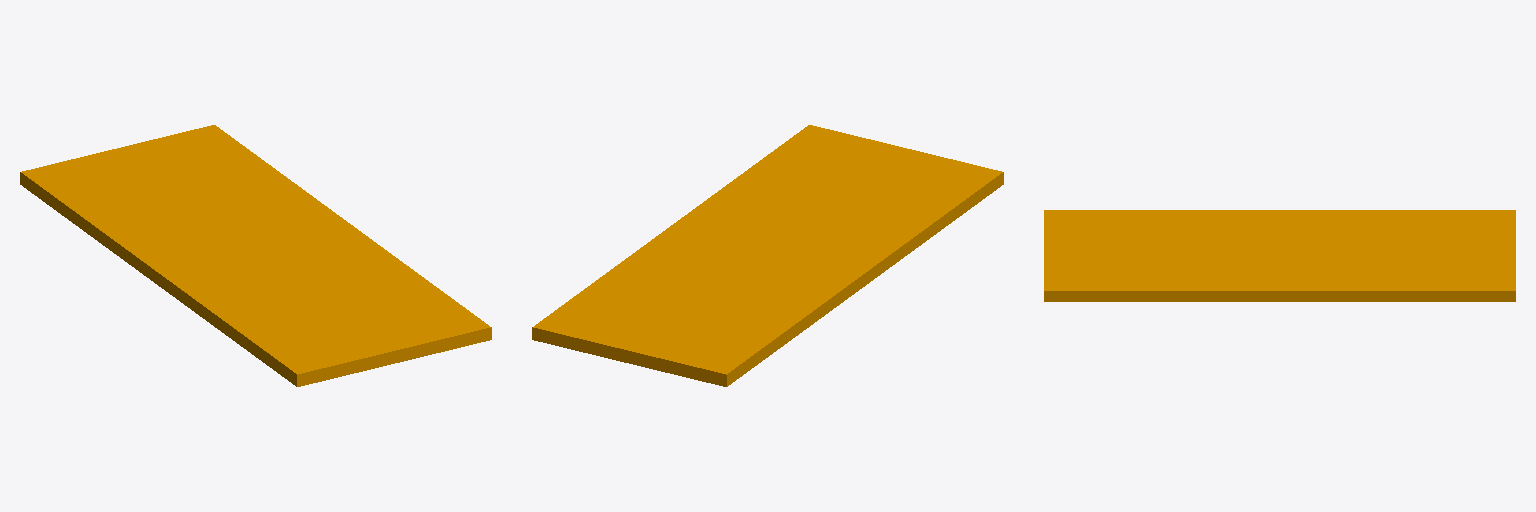
robot.urdf — esp32s3_devkitc:
<?xml version="1.0" encoding="utf-8"?>
<!-- ESP32-S3-DevKitC-1 v1.1 板体近似模型（box 近似，非真实外壳网格）。
     坐标约定：原点 = 板外形几何中心；X = 宽方向，Y = 长方向（+Y = 模组/天线端），
     Z 垂直板面，z=0 为板厚中面。尺寸来源见同目录 board.yaml 的 sources 段。
     外形 62.74 x 25.40 mm 来自乐鑫官方尺寸图 DXF 标注（已交叉验证）。 -->
<robot name="esp32s3_devkitc">
  <link name="base_link">
    <visual>
      <geometry>
        <!-- UNVERIFIED 占位：z=0.0016 是标称 PCB 厚度的绘图占位值，不是有来源的尺寸；
             board.yaml 的 thickness 为 null。实测后替换。x/y 为有来源的外形尺寸。 -->
        <box size="0.0254 0.06274 0.0016"/>
      </geometry>
      <origin xyz="0 0 0" rpy="0 0 0"/>
    </visual>
  </link>

  <!-- 三个挂载点为跨仓约定命名（PPM 导阈值按名字找），不改名不加前缀。
       位置是模型库的设计建议（约定），不是板子实测特征：
       camera = 长边模组端中心，sensor = 长边 USB 端中心，bracket = 板中心。
       z=0（板厚中面约定）；rpy 中项为俯仰角槽位，当前 0 = 水平朝前占位，
       正前方基准角由几何→阈值映射层定义（本单不做）。 -->
  <link name="mount_camera"/>
  <link name="mount_sensor"/>
  <link name="mount_bracket"/>

  <joint name="base_to_mount_camera" type="fixed">
    <parent link="base_link"/>
    <child link="mount_camera"/>
    <origin xyz="0 0.03137 0" rpy="0 0 0"/>
  </joint>
  <joint name="base_to_mount_sensor" type="fixed">
    <parent link="base_link"/>
    <child link="mount_sensor"/>
    <origin xyz="0 -0.03137 0" rpy="0 0 0"/>
  </joint>
  <joint name="base_to_mount_bracket" type="fixed">
    <parent link="base_link"/>
    <child link="mount_bracket"/>
    <origin xyz="0 0 0" rpy="0 0 0"/>
  </joint>

  <!-- 无 hole_N link：官方尺寸图 DXF 中不存在安装孔几何（面包板兼容板，无螺丝孔）。
       见 board.yaml mount_holes: [] 及其来源。不编造孔位。 -->
</robot>

--- Render facts (derived) ---
3 views of the same robot in one strip: view 1: azimuth 30°, elevation 25°; view 2: azimuth 150°, elevation 25°; view 3: azimuth 270°, elevation 25° (orthographic).
Robot: esp32s3_devkitc — 4 links, 3 joints (3 fixed); root link base_link; default pose: every joint at zero.
Links seen in each view (by area): view 1: base_link; view 2: base_link; view 3: base_link.
Link boxes in pixels (left/top/right/bottom): base_link: left=20, top=125, right=491, bottom=386; base_link: left=532, top=125, right=1003, bottom=386; base_link: left=1044, top=210, right=1515, bottom=301.
Bounding box of the posed robot: 0.0254 × 0.0627 × 0.0016 m (x, y, z).
Geometry: primitives only (box / cylinder / sphere), no mesh files.
